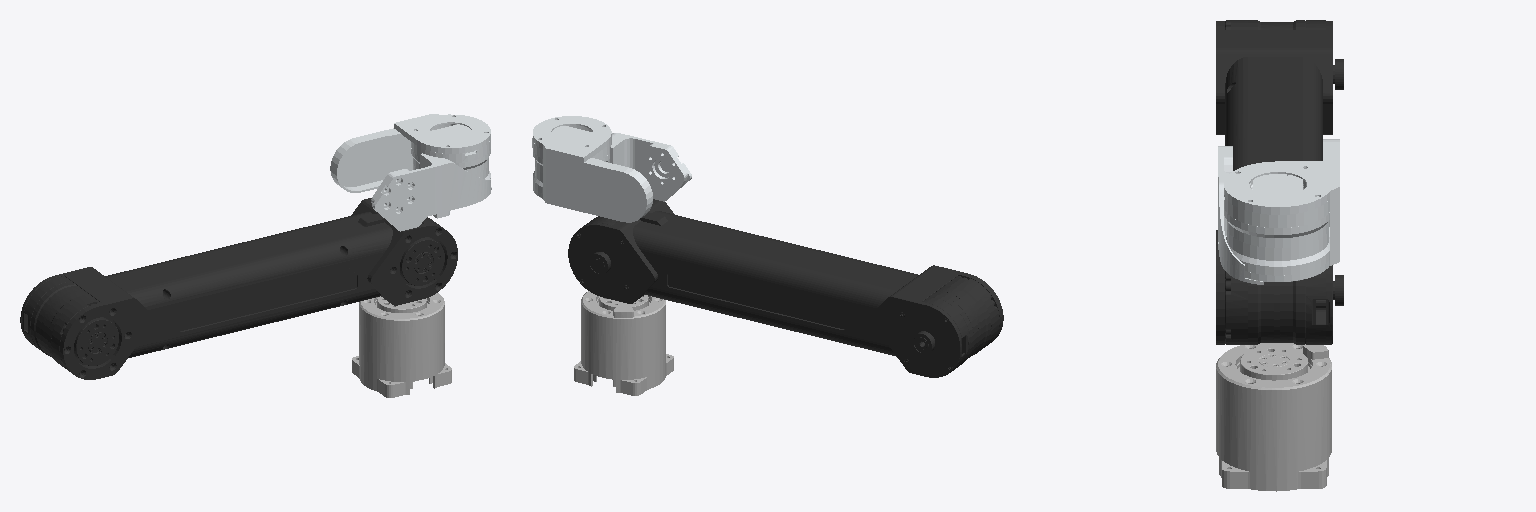
robot.urdf — ARX-5s-V5.0-urdf ceshi3:
<?xml version="1.0" encoding="utf-8"?>
<!-- This URDF was automatically created by SolidWorks to URDF Exporter! Originally created by [author] ([email redacted]) 
     Commit Version: 1.6.0-4-g7f85cfe  Build Version: 1.6.7995.38578
     For more information, please see http://wiki.ros.org/sw_urdf_exporter -->
<robot
  name="ARX-5s-V5.0-urdf ceshi3">
  <mujoco>
    <compiler meshdir="../meshes/" balanceinertia="true" discardvisual="false" />
  </mujoco>
  <link
    name="base_link">
    <inertial>
      <origin
        xyz="-2.9949E-05 3.0537E-05 -0.033016"
        rpy="0 0 0" />
      <mass
        value="0.44071" />
      <inertia
        ixx="1.7392E-04"
        ixy="-3.4525E-07"
        ixz="-5.9337E-07"
        iyy="1.7547E-04"
        iyz="1.1271E-06"
        izz="1.5925E-04" />
    </inertial>
    <visual>
      <origin
        xyz="0 0 0"
        rpy="0 0 0" />
      <geometry>
        <mesh
          filename="package://airbot_play_compatible/meshes/base_link.STL" />
      </geometry>
      <material
        name="">
        <color
          rgba="0.75294 0.75294 0.75294 1" />
      </material>
    </visual>
    <collision>
      <origin
        xyz="0 0 0"
        rpy="0 0 0" />
      <geometry>
        <mesh
          filename="package://airbot_play_compatible/meshes/base_link.STL" />
      </geometry>
    </collision>
  </link>
  <link
    name="link1">
    <inertial>
      <origin
        xyz="-3.3048E-08 -0.00059451 0.016543"
        rpy="0 0 0" />
      <mass
        value="0.051342" />
      <inertia
        ixx="5.7689E-05"
        ixy="-7E-11"
        ixz="-3E-11"
        iyy="1.6943E-05"
        iyz="-3.3983E-07"
        izz="5.5562E-05" />
    </inertial>
    <visual>
      <origin
        xyz="0 0 0"
        rpy="0 0 0" />
      <geometry>
        <mesh
          filename="package://airbot_play_compatible/meshes/link1.STL" />
      </geometry>
      <material
        name="">
        <color
          rgba="1 1 1 1" />
      </material>
    </visual>
    <collision>
      <origin
        xyz="0 0 0"
        rpy="0 0 0" />
      <geometry>
        <mesh
          filename="package://airbot_play_compatible/meshes/link1.STL" />
      </geometry>
    </collision>
  </link>
  <joint
    name="joint1"
    type="revolute">
    <origin
      xyz="0 0 0"
      rpy="0 0 0" />
    <parent
      link="base_link" />
    <child
      link="link1" />
    <axis
      xyz="0 0 1" />
    <limit
      lower="-10"
      upper="10"
      effort="100"
      velocity="1000" />
  </joint>
  <link
    name="link2">
    <inertial>
      <origin
        xyz="0.13234 -0.00019055 -0.0019415"
        rpy="0 0 0" />
      <mass
        value="1.1379" />
      <inertia
        ixx="5.3430993E-04"
        ixy="-4.820824E-05"
        ixz="7.5502E-07"
        iyy="0"
        iyz="-2.6064E-07"
        izz="1.617805616E-02" />
    </inertial>
    <visual>
      <origin
        xyz="0 0 0"
        rpy="0 0 0" />
      <geometry>
        <mesh
          filename="package://airbot_play_compatible/meshes/link2.STL" />
      </geometry>
      <material
        name="">
        <color
          rgba="0.25098 0.25098 0.25098 1" />
      </material>
    </visual>
    <collision>
      <origin
        xyz="0 0 0"
        rpy="0 0 0" />
      <geometry>
        <mesh
          filename="package://airbot_play_compatible/meshes/link2.STL" />
      </geometry>
    </collision>
  </link>
  <joint
    name="joint2"
    type="revolute">
    <origin
      xyz="0 0 0.0402"
      rpy="-1.5708 0.0016463 3.1416" />
    <parent
      link="link1" />
    <child
      link="link2" />
    <axis
      xyz="0 0 1" />
    <limit
      lower="-10"
      upper="10"
      effort="100"
      velocity="1000" />
  </joint>
  <link
    name="link3">
    <inertial>
      <origin
        xyz="0.18498 0.0096239 8.209E-05"
        rpy="0 0 0" />
      <mass
        value="0.55615" />
      <inertia
        ixx="3.6463748E-04"
        ixy="-4.7568977E-04"
        ixz="-9.61418E-06"
        iyy="4.59290981E-03"
        iyz="-1.90857E-06"
        izz="4.61730434E-03" />
    </inertial>
    <visual>
      <origin
        xyz="0 0 0"
        rpy="0 0 0" />
      <geometry>
        <mesh
          filename="package://airbot_play_compatible/meshes/link3.STL" />
      </geometry>
      <material
        name="">
        <color
          rgba="0.75294 0.75294 0.75294 1" />
      </material>
    </visual>
    <collision>
      <origin
        xyz="0 0 0"
        rpy="0 0 0" />
      <geometry>
        <mesh
          filename="package://airbot_play_compatible/meshes/link3.STL" />
      </geometry>
    </collision>
  </link>
  <joint
    name="joint3"
    type="revolute">
    <origin
      xyz="0.264 0 0"
      rpy="0 0 -2.9169" />
    <parent
      link="link2" />
    <child
      link="link3" />
    <axis
      xyz="0 0 1" />
    <limit
      lower="-10"
      upper="10"
      effort="100"
      velocity="1000" />
  </joint>
  <link
    name="link4">
    <inertial>
      <origin
        xyz="0.05354 -0.0002508 -0.00056729"
        rpy="0 0 0" />
      <mass
        value="0.35037" />
      <inertia
        ixx="1.1078784E-04"
        ixy="5.68483E-06"
        ixz="-1.778429E-05"
        iyy="2.1478415E-04"
        iyz="-6.32521E-06"
        izz="1.6720967E-04" />
    </inertial>
    <visual>
      <origin
        xyz="0 0 0"
        rpy="0 0 0" />
      <geometry>
        <mesh
          filename="package://airbot_play_compatible/meshes/link4.STL" />
      </geometry>
      <material
        name="">
        <color
          rgba="0.89804 0.91765 0.92941 1" />
      </material>
    </visual>
    <collision>
      <origin
        xyz="0 0 0"
        rpy="0 0 0" />
      <geometry>
        <mesh
          filename="package://airbot_play_compatible/meshes/link4.STL" />
      </geometry>
    </collision>
  </link>
  <joint
    name="joint4"
    type="revolute">
    <origin
      xyz="0.25132 0 0"
      rpy="0 0 -0.22636" />
    <parent
      link="link3" />
    <child
      link="link4" />
    <axis
      xyz="0 0 1" />
    <limit
      lower="-10"
      upper="10"
      effort="100"
      velocity="1000" />
  </joint>
  <link
    name="link5">
    <inertial>
      <origin
        xyz="0.051613 -0.00072588 -0.00061659"
        rpy="0 0 0" />
      <mass
        value="0.33138" />
      <inertia
        ixx="3.1443063E-04"
        ixy="3.6082E-07"
        ixz="-7.6431E-07"
        iyy="2.9391628E-04"
        iyz="-1.8877E-07"
        izz="2.9233995E-04" />
    </inertial>
    <visual>
      <origin
        xyz="0 0 0"
        rpy="0 0 0" />
      <geometry>
        <mesh
          filename="package://airbot_play_compatible/meshes/link5.STL" />
      </geometry>
      <material
        name="">
        <color
          rgba="0.41176 0.41176 0.41176 1" />
      </material>
    </visual>
    <collision>
      <origin
        xyz="0 0 0"
        rpy="0 0 0" />
      <geometry>
        <mesh
          filename="package://airbot_play_compatible/meshes/link5.STL" />
      </geometry>
    </collision>
  </link>
  <joint
    name="joint5"
    type="revolute">
    <origin
      xyz="0.06 -0.0005 -0.002"
      rpy="-1.5708 -0.0025284 0" />
    <parent
      link="link4" />
    <child
      link="link5" />
    <axis
      xyz="0 0 1" />
    <limit
      lower="-10"
      upper="10"
      effort="100"
      velocity="1000" />
  </joint>
  <link
    name="link6">
    <inertial>
      <origin
        xyz="0 0 0"
        rpy="0 0 0" />
      <mass
        value="1E-09" />
      <inertia
        ixx="1E-09"
        ixy="1E-09"
        ixz="1E-09"
        iyy="1E-09"
        iyz="1E-09"
        izz="1E-09" />
    </inertial>
  </link>
  <joint
    name="joint6"
    type="revolute">
    <origin
      xyz="0.075 0 0"
      rpy="3.1416 -1.5708 0" />
    <parent
      link="link5" />
    <child
      link="link6" />
    <axis
      xyz="0 0 1" />
    <limit
      lower="-10"
      upper="10"
      effort="100"
      velocity="1000" />
  </joint>
</robot>

--- Render facts (derived) ---
Views: 3 orthographic renders of the robot side by side, from view 1: azimuth 30°, elevation 25°; view 2: azimuth 150°, elevation 25°; view 3: azimuth 270°, elevation 25°.
Model ARX-5s-V5.0-urdf ceshi3 with 7 links and 6 joints (6 revolute), rooted at base_link, posed every joint at zero.
Links seen in each view (by area): view 1: link2, link4, base_link; view 2: link2, link4, base_link; view 3: link2, base_link, link4.
Link boxes in pixels (left/top/right/bottom): link2: left=20, top=198, right=457, bottom=379; link4: left=330, top=114, right=491, bottom=231; base_link: left=352, top=293, right=451, bottom=397; link2: left=568, top=199, right=1003, bottom=377; link4: left=532, top=116, right=691, bottom=222; base_link: left=574, top=291, right=673, bottom=395; link2: left=1216, top=20, right=1343, bottom=344; base_link: left=1216, top=343, right=1331, bottom=491; link4: left=1218, top=139, right=1339, bottom=284.
Size in the robot's own frame: 0.3609 by 0.0665 by 0.1799 metres.
Meshes: 6 distinct files referenced, 3 mesh visuals loaded (3 binary STL); not drawn: 3 (reference not matched to a file when rendering).
